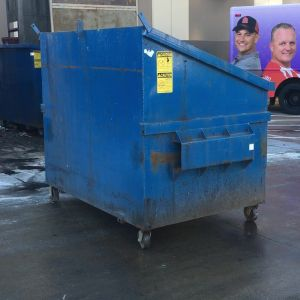Dumpster: (29, 14, 279, 253)
Person: (265, 22, 299, 82), (231, 15, 263, 76)
